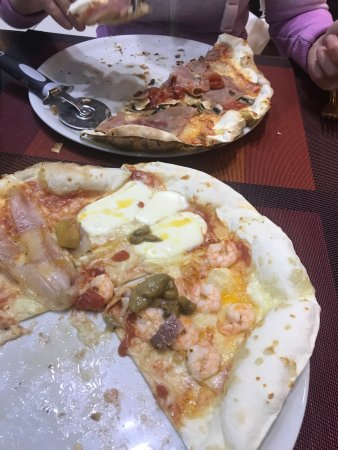bacon: (164, 41, 250, 108)
